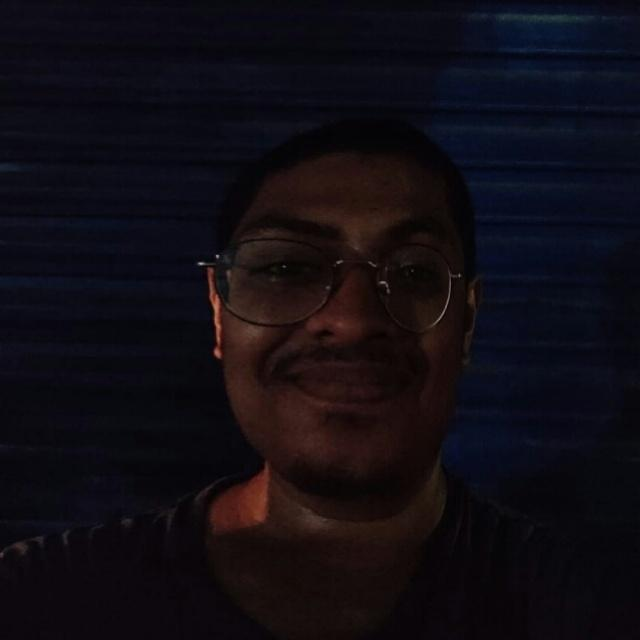Happy: (162, 100, 548, 524)
